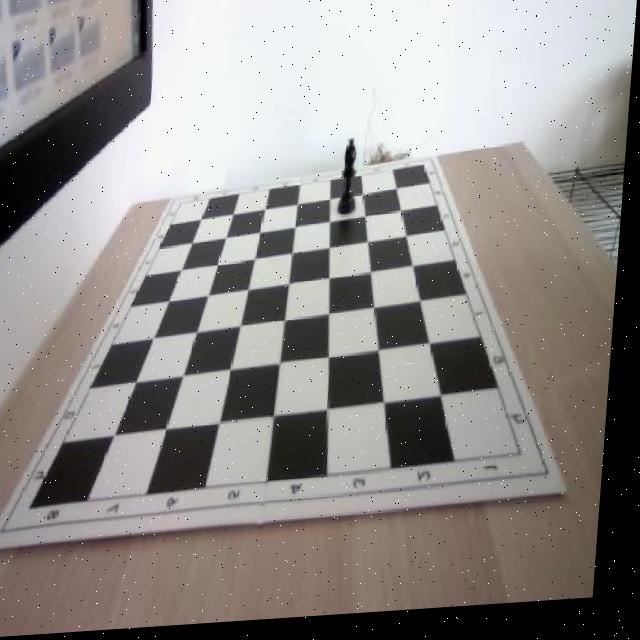bishop: (340, 140, 363, 221)
